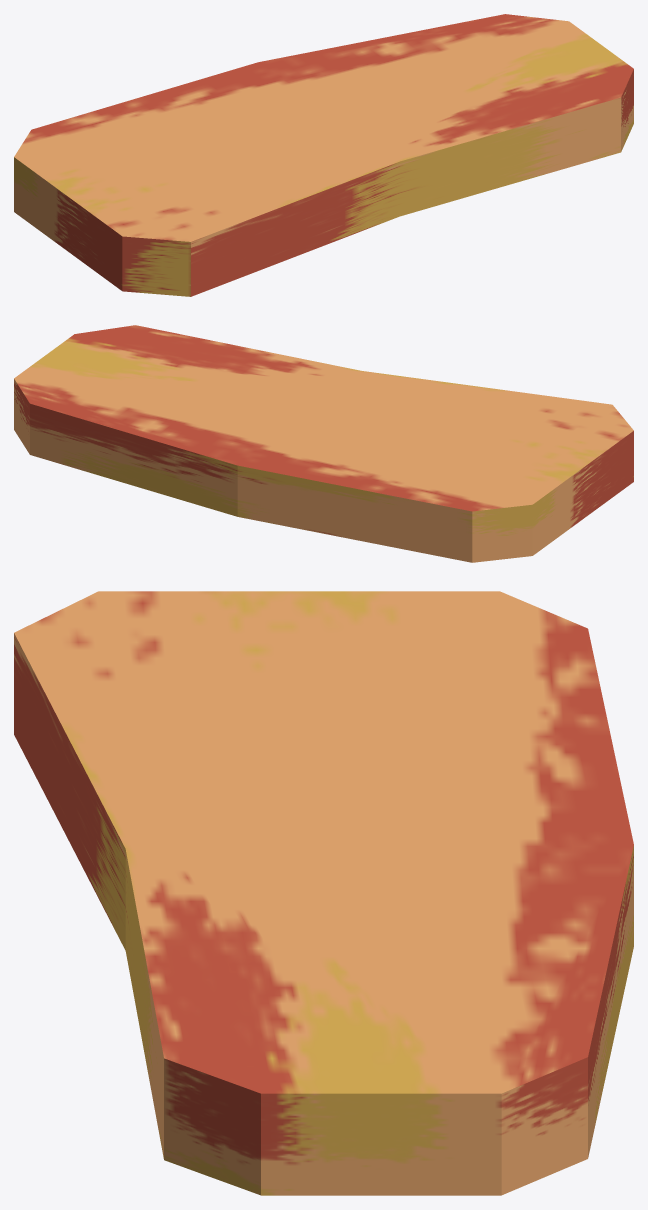
Rendered from 烤肉片.fbx.
The picture shows the model from 3 angles, top to bottom: view 1: azimuth 30°, elevation 25°; view 2: azimuth 150°, elevation 25°; view 3: azimuth 270°, elevation 25°; orthographic projection. The views are drawn at different scales.
Visible parts, largest first — view 1: 立方体; view 2: 立方体; view 3: 立方体.
Boxes of the visible parts, box(x1,y1,x2,y2) form: 立方体: box(14, 14, 633, 296); 立方体: box(14, 325, 633, 562); 立方体: box(14, 591, 633, 1195).
Size of the model in its own units: 404 by 38.19 by 211.
